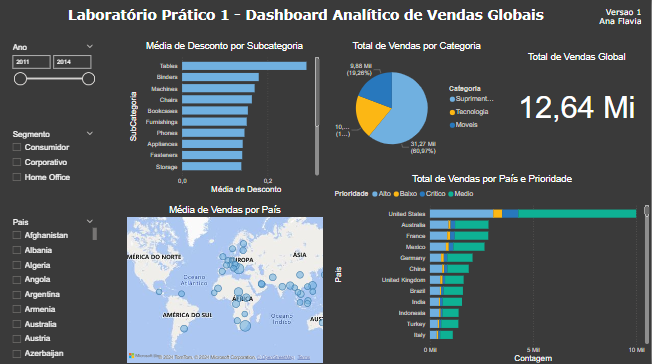

The page's visual inventory and layout, read from the dashboard file:
{"tool":"powerbi","page":{"name":"Página 1","canvas":[1280,720],"ordinal":0},"visuals":[{"type":"card","title":"Total de Vendas Global","fields":{"Values":["Sum(Vendas.Total_Vendas)"]},"box":[1000,103.3,265,191.7],"z":0},{"type":"pieChart","title":"Total de Vendas por Categoria","fields":{"Category":["Vendas.Categoria"],"Y":["CountNonNull(Vendas.ID_Pedido)"]},"box":[653.3,81.7,331.7,246.7],"z":1000},{"type":"barChart","title":"Total de Vendas por País e Prioridade","fields":{"Category":["Vendas.Pais"],"Y":["CountNonNull(Vendas.ID_Pedido)"],"Series":["Vendas.Prioridade"]},"box":[653.3,343.3,626.7,376.7],"z":2000},{"type":"clusteredBarChart","title":"Média de Desconto por Subcategoria","fields":{"Category":["Vendas.SubCategoria"],"Y":["Avg(Vendas.Desconto)"]},"box":[251.7,81.7,381.7,306.7],"z":3000},{"type":"map","title":"Média de Vendas por País","fields":{"Category":["Vendas.Pais"],"Size":["Avg(Vendas.Total_Vendas)"]},"box":[245,403.3,395,316.7],"z":4000},{"type":"slicer","fields":{"Values":["Vendas.Pais"]},"box":[13.3,425,183.3,295],"z":5000},{"type":"slicer","fields":{"Values":["Vendas.Segmento"]},"box":[13.3,253.3,183.3,171.7],"z":6000},{"type":"slicer","fields":{"Values":["Vendas.Data_Pedido.Variation.Hierarquia de datas.Ano"]},"box":[13.3,81.7,183.3,171.7],"z":7000},{"type":"textbox","box":[105,11.7,1000,51.7],"z":8000},{"type":"textbox","box":[1121.7,11.7,143.3,51.7],"z":9000}]}

Visuals, with their boxes in screenshot pixels (x1, y1, x2, y2), scaled from the page's 1280x720 canvas onto the 652x364 screenshot:
"Total de Vendas Global" card: <box>509,52,644,149</box>
"Total de Vendas por Categoria" pieChart: <box>333,41,502,166</box>
"Total de Vendas por País e Prioridade" barChart: <box>333,174,651,363</box>
"Média de Desconto por Subcategoria" clusteredBarChart: <box>128,41,323,196</box>
"Média de Vendas por País" map: <box>125,204,326,363</box>
slicer - Vendas.Pais: <box>7,215,100,363</box>
slicer - Vendas.Segmento: <box>7,128,100,215</box>
slicer - Vendas.Data_Pedido.Variation.Hierarquia de datas.Ano: <box>7,41,100,128</box>
textbox: <box>53,6,563,32</box>
textbox: <box>571,6,644,32</box>
